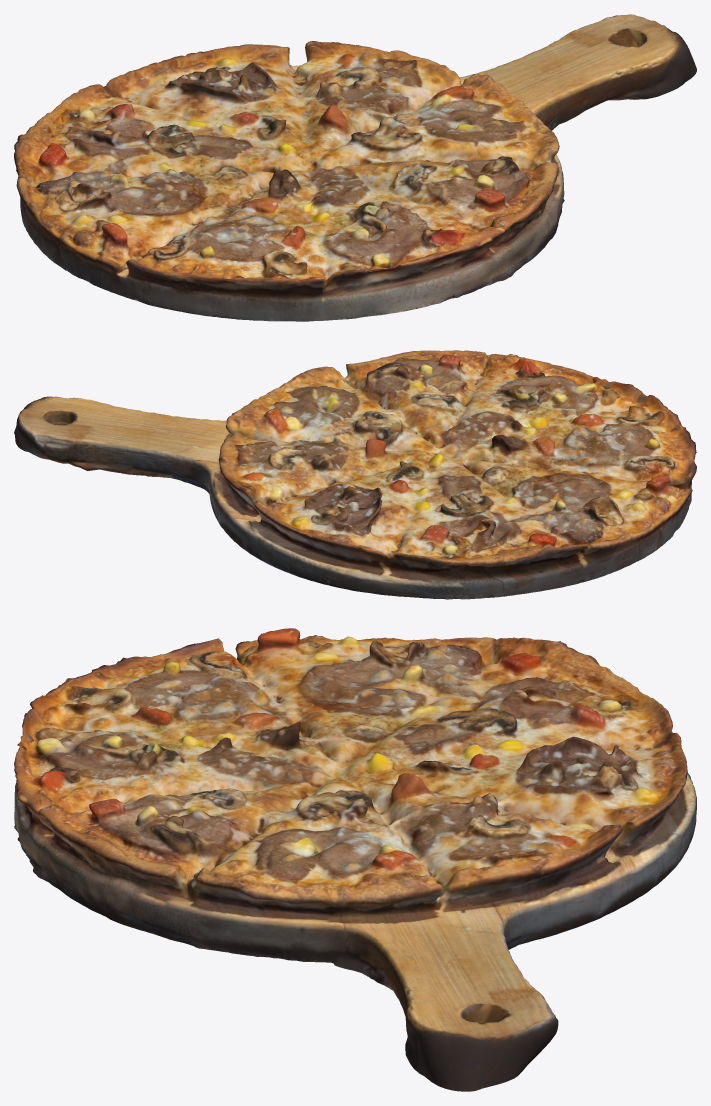
Rendered from Pizza.Zaboon.glb.
3 views of the same model, one above another, from view 1: azimuth 30°, elevation 25°; view 2: azimuth 150°, elevation 25°; view 3: azimuth 270°, elevation 25° (orthographic). The views are drawn at different scales.
Visible parts, largest first — view 1: 3DModel; view 2: 3DModel; view 3: 3DModel.
Part boxes in pixels (<box>): 3DModel: <box>14,14,696,321</box>; 3DModel: <box>14,350,696,599</box>; 3DModel: <box>14,628,696,1091</box>.
Bounding box in the file's own units: 0.4192 × 0.0399 × 0.2906.
1 material, 1 textured.
